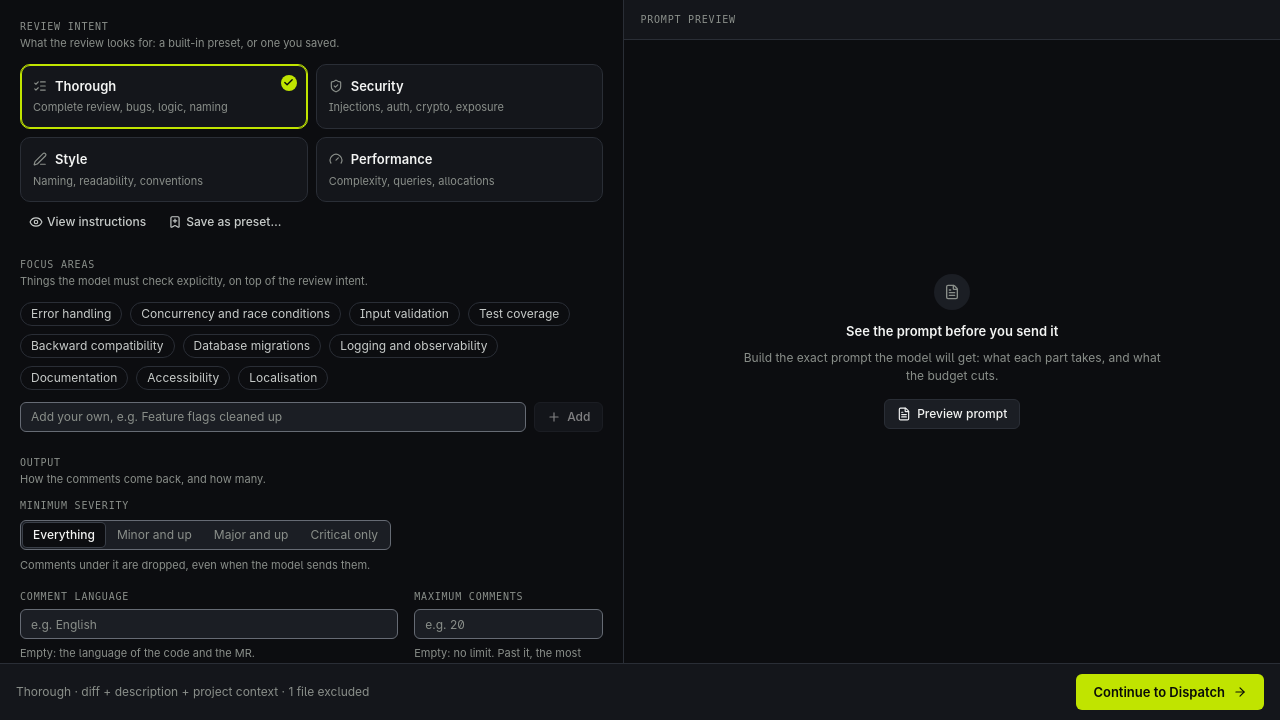
BriefStage — prompt preview › names the binary files it skipped
Click the button "Preview prompt" at {"x": 952, "y": 414}, box [884,399,1020,429]
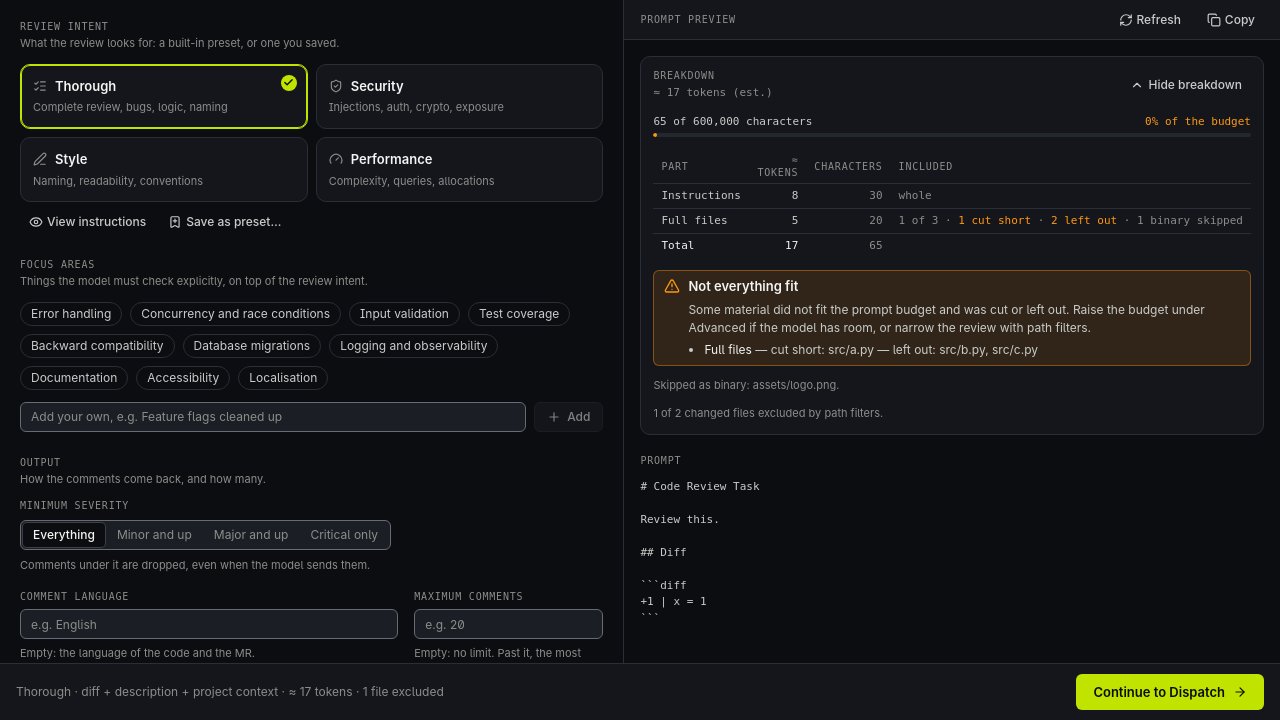
Expected: the text "Skipped as binary: assets/logo.png." is shown, [653,378,839,392]
